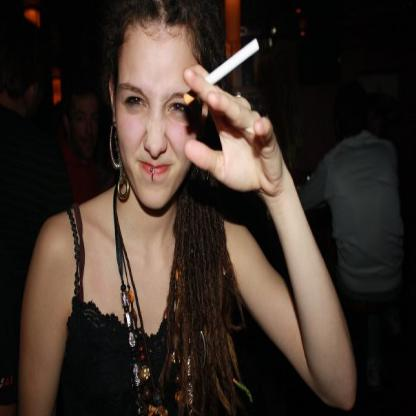smoking: (184, 38, 259, 104)
